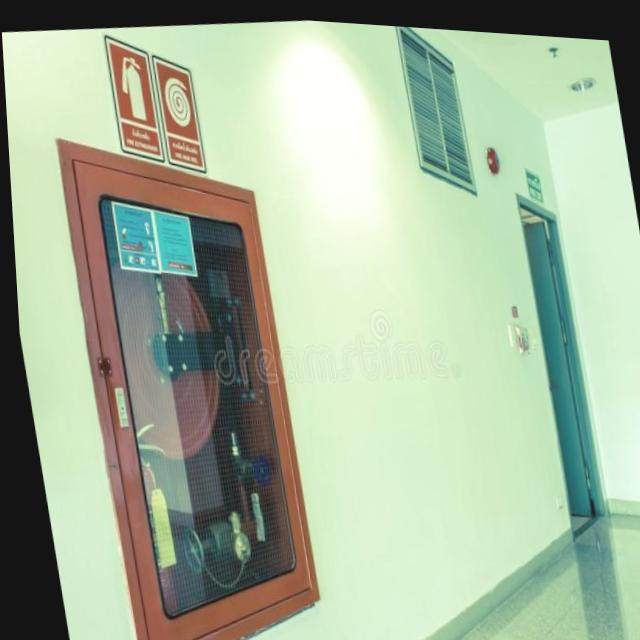FireExtinguisher: (105, 407, 190, 635)
